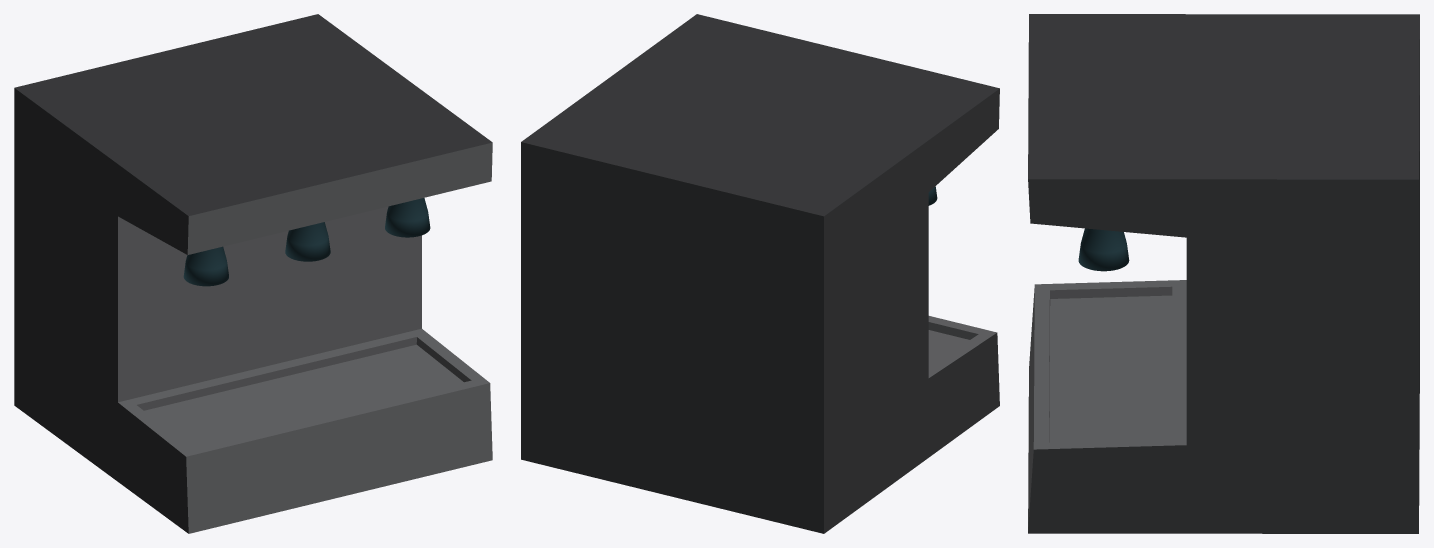
The model's file is CinmeaDrink.fbx.
The picture shows the model from 3 angles, left to right: view 1: azimuth 30°, elevation 25°; view 2: azimuth 150°, elevation 25°; view 3: azimuth 270°, elevation 25°; orthographic projection. The views are drawn at different scales.
Parts seen in each view (by area): view 1: Softdrinkmaschine; view 2: Softdrinkmaschine; view 3: Softdrinkmaschine.
Boxes of the visible parts, left/top/right/bottom form: Softdrinkmaschine: left=14, top=14, right=492, bottom=533; Softdrinkmaschine: left=521, top=14, right=999, bottom=533; Softdrinkmaschine: left=1028, top=14, right=1419, bottom=533.
Bounding box in the file's own units: 201 × 200 × 201.
